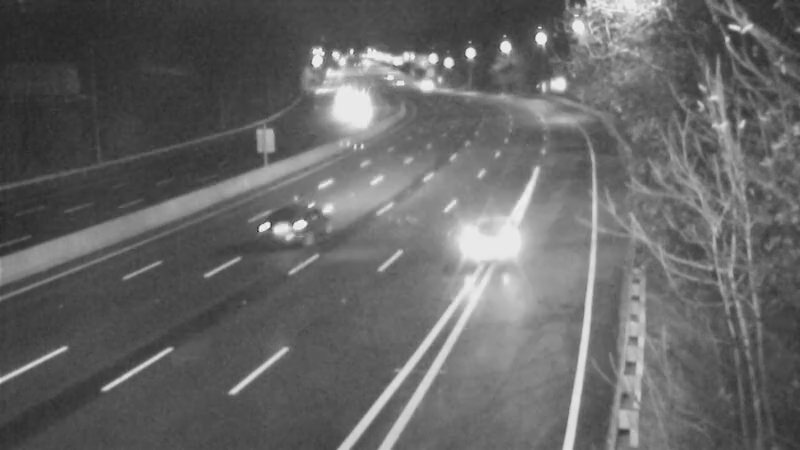vehicle: (442, 207, 522, 287), (238, 188, 318, 268), (374, 58, 424, 108), (396, 57, 446, 107), (326, 84, 376, 134)
